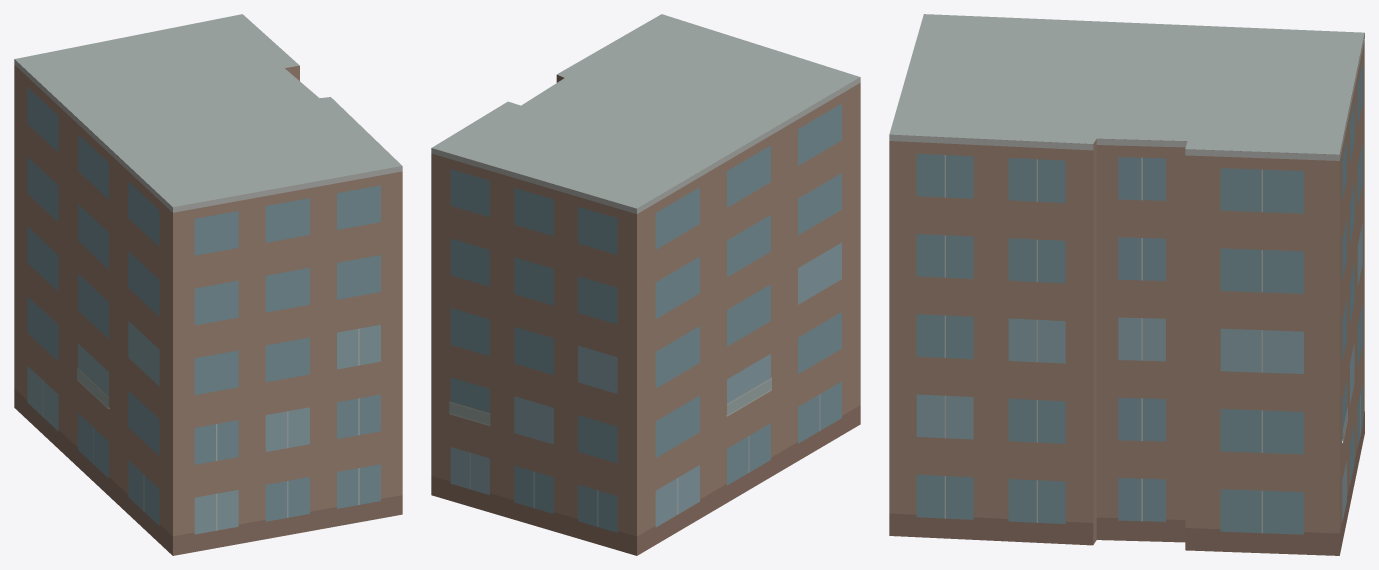
The model's file is survey-upis-32572403.glb.
The picture shows the model from 3 angles, left to right: view 1: azimuth 30°, elevation 25°; view 2: azimuth 150°, elevation 25°; view 3: azimuth 270°, elevation 25°; orthographic projection. The views are drawn at different scales.
Visible parts, largest first — view 1: survey-upis-32572403.tmp; view 2: survey-upis-32572403.tmp; view 3: survey-upis-32572403.tmp.
Boxes of the visible parts, x1,y1,x2,y2 form: survey-upis-32572403.tmp: (14, 14, 402, 555); survey-upis-32572403.tmp: (431, 14, 860, 555); survey-upis-32572403.tmp: (889, 14, 1364, 555).
Bounding box in the file's own units: 11.58 × 15.4 × 16.54.
